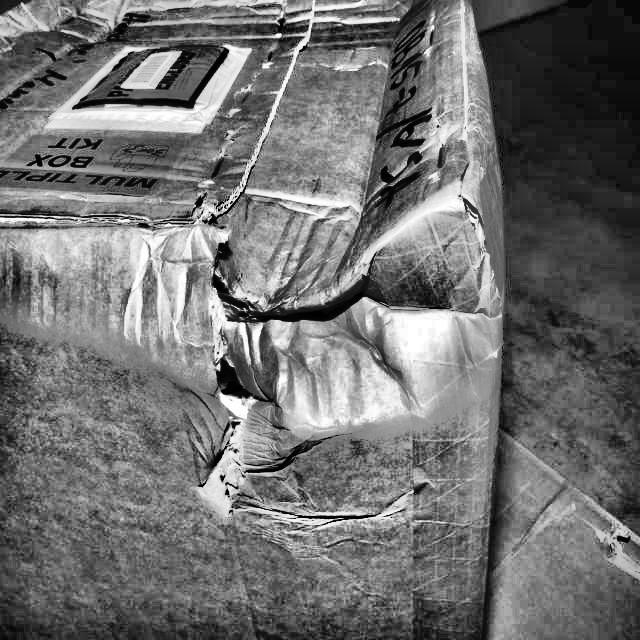box: (0, 0, 520, 639)
hole: (195, 279, 267, 493)
